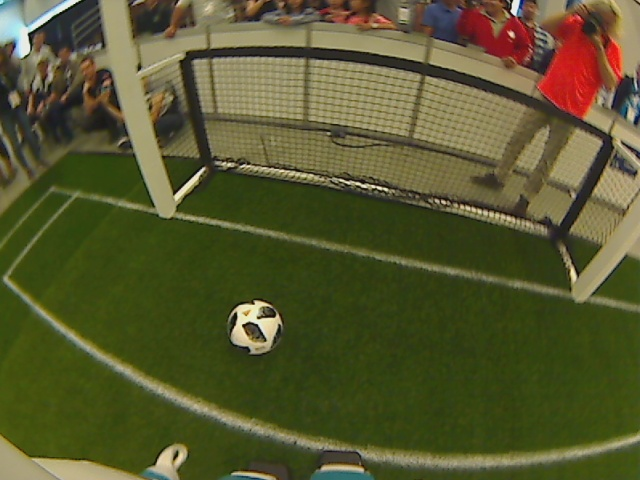ball: (223, 295, 286, 359)
goalpost: (556, 269, 605, 320), (143, 191, 186, 235)
